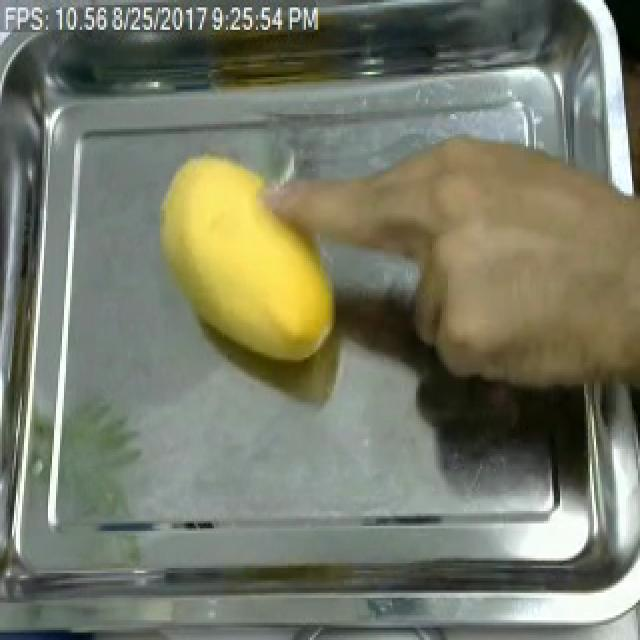fruit: (402, 109, 638, 409), (146, 139, 348, 377)
